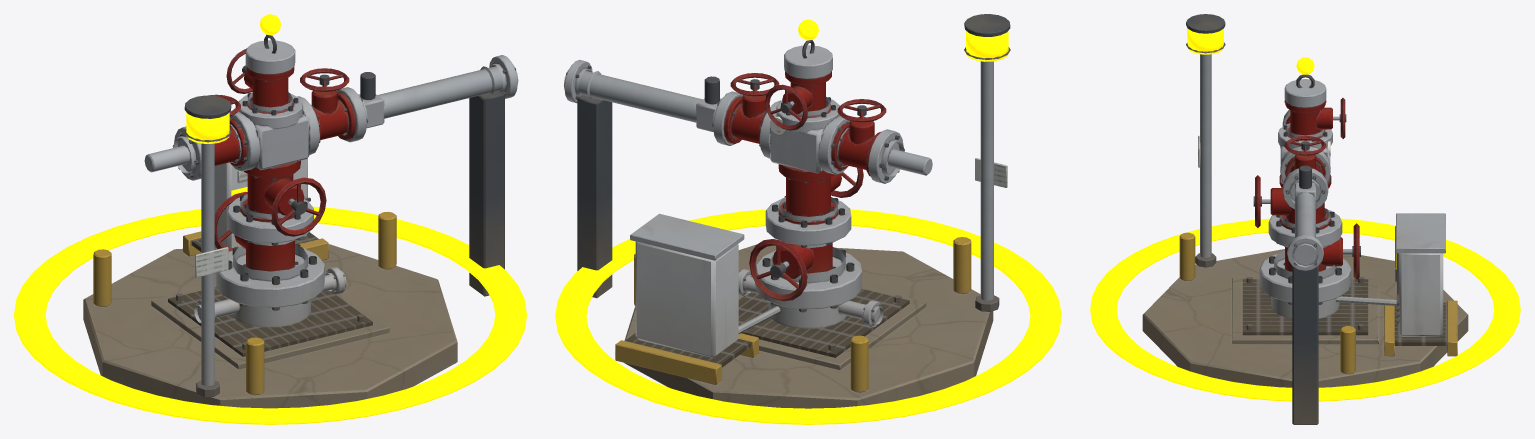
File: wellhead_agup.glb
3 views of the same model, side by side, from view 1: azimuth 30°, elevation 25°; view 2: azimuth 150°, elevation 25°; view 3: azimuth 270°, elevation 25° (orthographic). The views are drawn at different scales.
Parts seen in each view (by area): view 1: wellhead_agup_Body, StatusRing, Beacon; view 2: wellhead_agup_Body, StatusRing, Beacon; view 3: wellhead_agup_Body, StatusRing, Beacon.
Boxes of the visible parts, <box> form: wellhead_agup_Body: <box>83,34,518,408</box>; StatusRing: <box>14,206,526,424</box>; Beacon: <box>186,112,229,143</box>; wellhead_agup_Body: <box>564,14,1010,408</box>; StatusRing: <box>555,209,1061,424</box>; Beacon: <box>966,31,1008,61</box>; wellhead_agup_Body: <box>1142,14,1468,424</box>; StatusRing: <box>1090,218,1520,401</box>; Beacon: <box>1187,28,1223,54</box>.
Size of the model in its own units: 1.71 by 1.16 by 1.64.
3 materials, 1 textured.
